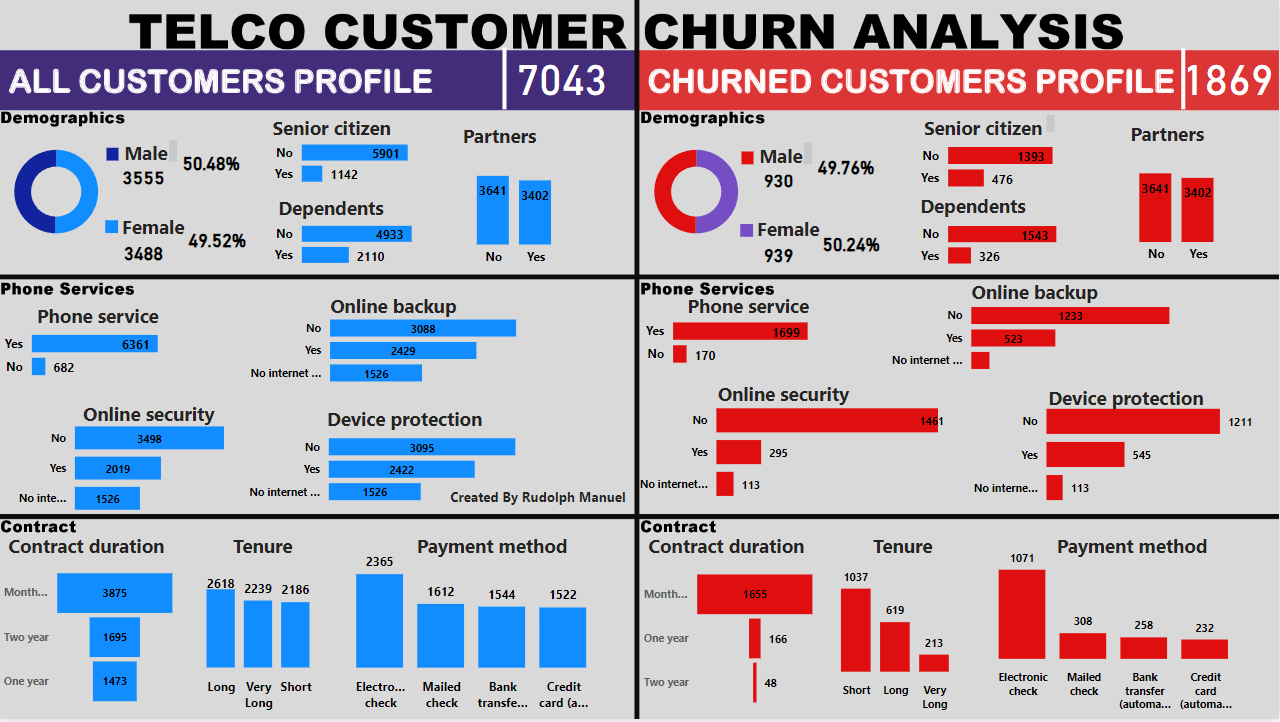

This screenshot's page, from the dashboard's own definition file:
{"tool":"powerbi","page":{"name":"Home Page","canvas":[1280,720],"ordinal":0},"visuals":[{"type":"card","fields":{"Values":["All measures.Total no of cust"]},"box":[505.8,48.8,113.1,55.9],"z":0},{"type":"card","fields":{"Values":["All measures.Total churned cust"]},"box":[1175.8,51.2,104.7,51.2],"z":1000},{"type":"shape","box":[487.9,48.8,35.7,61.9],"z":2000},{"type":"shape","box":[1166.3,48.8,35.7,61.9],"z":3000},{"type":"donutChart","fields":{"Category":["Telco Churn Data.gender"],"Y":["CountNonNull(Telco Churn Data.gender)"]},"box":[0,134.5,114.2,115.4],"z":4000},{"type":"card","fields":{"Values":["All measures.Male cust"]},"box":[113.1,164.2,64.3,25],"z":5000},{"type":"textbox","box":[119,135.7,64.3,33.3],"z":6000},{"type":"card","fields":{"Values":["All measures.Female cust"]},"box":[113.1,234.4,64.3,40.5],"z":7000},{"type":"textbox","box":[114.2,209.5,80.9,35.7],"z":8000},{"type":"shape","box":[107.1,148.8,11.9,13.1],"z":9000},{"type":"shape","box":[105.9,221.4,13.1,13.1],"z":10000},{"type":"card","fields":{"Values":["All measures.%of malecust"]},"box":[177.3,150,69,29.8],"z":11000},{"type":"card","fields":{"Values":["All measures.%of femalecust"]},"box":[183.3,227.3,69,29.8],"z":12000},{"type":"clusteredBarChart","fields":{"Category":["Telco Churn Data.SeniorCitizen"],"Y":["CountNonNull(Telco Churn Data.SeniorCitizen)"]},"box":[270.1,114.2,172.6,94],"z":13000},{"type":"textbox","box":[260.6,110.7,142.8,35.7],"z":14000},{"type":"textbox","box":[270.1,191.6,123.8,35.7],"z":15000},{"type":"clusteredBarChart","fields":{"Category":["Telco Churn Data.Dependents"],"Y":["CountNonNull(Telco Churn Data.Dependents)"]},"box":[270.1,195.2,180.9,94],"z":16000},{"type":"columnChart","fields":{"Category":["Telco Churn Data.Partner"],"Y":["CountNonNull(Telco Churn Data.Partner)"]},"box":[434.4,155.9,161.9,119],"z":17000},{"type":"textbox","box":[450.6,119.1,101.1,42.7],"z":18000},{"type":"donutChart","fields":{"Y":["All measures.Total churned cust"],"Category":["Telco Churn Data.gender"]},"box":[640.3,134.5,114.2,115.4],"z":19000},{"type":"card","fields":{"Values":["All measures.churned males"]},"box":[747.9,167.8,64.3,25],"z":20000},{"type":"textbox","box":[753.8,139.3,64.3,33.3],"z":21000},{"type":"card","fields":{"Values":["All measures.churned female"]},"box":[747.9,238,64.3,40.5],"z":22000},{"type":"textbox","box":[749,213.1,80.9,35.7],"z":23000},{"type":"shape","box":[741.9,152.4,11.9,13.1],"z":24000},{"type":"shape","box":[740.7,225,13.1,13.1],"z":25000},{"type":"card","fields":{"Values":["All measures.%of churned malecust"]},"box":[812.1,153.6,69,29.8],"z":26000},{"type":"card","fields":{"Values":["All measures.%of churned femalecust"]},"box":[818.1,230.9,69,29.8],"z":27000},{"type":"clusteredBarChart","fields":{"Category":["Telco Churn Data.SeniorCitizen"],"Y":["All measures.Total churned cust"]},"box":[916.9,114.6,171.9,98.9],"z":28000},{"type":"textbox","box":[916.9,111.2,143.8,30.3],"z":29000},{"type":"clusteredBarChart","fields":{"Category":["Telco Churn Data.Dependents"],"Y":["All measures.Total churned cust"]},"box":[916.9,195.5,180.9,94.4],"z":30000},{"type":"textbox","box":[916.9,188.8,123.6,36],"z":31000},{"type":"columnChart","fields":{"Category":["Telco Churn Data.Partner"],"Y":["CountNonNull(Telco Churn Data.Partner)"]},"box":[1097.9,154.2,161.9,119],"z":32000},{"type":"textbox","box":[1121.7,117.3,94,42.8],"z":33000},{"type":"barChart","fields":{"Category":["Telco Churn Data.PhoneService"],"Y":["All measures.Total churned cust"]},"box":[640.3,290.7,196.1,100],"z":34000,"group":"g2"},{"type":"textbox","box":[21.1,298.7,155.3,42.1],"z":34000},{"type":"barChart","fields":{"Category":["Telco Churn Data.PhoneService"],"Y":["CountNonNull(Telco Churn Data.PhoneService)"]},"box":[0,302.6,196.1,100],"z":34000,"group":"g1"},{"type":"textbox","box":[68.4,397.4,161.8,42.1],"z":35000},{"type":"textbox","box":[319.7,288.2,148.7,42.1],"z":36000},{"type":"barChart","fields":{"Category":["Telco Churn Data.OnlineSecurity"],"Y":["All measures.Total churned cust"]},"box":[622,384.6,327.3,132.1],"z":36000,"group":"g2"},{"type":"barChart","fields":{"Category":["Telco Churn Data.OnlineSecurity"],"Y":["CountNonNull(Telco Churn Data.OnlineSecurity)"]},"box":[0,409.1,270,120],"z":36000,"group":"g1"},{"type":"textbox","box":[320,396.2,173.8,42.5],"z":37000},{"type":"barChart","fields":{"Category":["Telco Churn Data.OnlineBackup"],"Y":["All measures.Total churned cust"]},"box":[871.8,286.8,346.1,98.7],"z":38000,"group":"g2"},{"type":"group","id":"g1","title":"Group 1","box":[0,298.7,577.6,230.4],"z":38000},{"type":"barChart","fields":{"Y":["CountNonNull(Telco Churn Data.OnlineBackup)"],"Category":["Telco Churn Data.OnlineBackup"]},"box":[231.6,298.7,346.1,98.7],"z":38000,"group":"g1"},{"type":"group","id":"g2","title":"Group 1","box":[622,286.8,645,234.7],"z":39000},{"type":"textbox","box":[1036.2,377.5,173.8,41.2],"z":40000},{"type":"barChart","fields":{"Category":["Telco Churn Data.DeviceProtection"],"Y":["All measures.Total churned cust"]},"box":[957.6,384.6,309.4,136.9],"z":40000,"group":"g2"},{"type":"barChart","fields":{"Category":["Telco Churn Data.DeviceProtection"],"Y":["CountNonNull(Telco Churn Data.DeviceProtection)"]},"box":[230,409.1,346.2,107.5],"z":40000,"group":"g1"},{"type":"textbox","box":[697.4,377.3,173.8,41.7],"z":41000},{"type":"funnel","fields":{"Category":["Telco Churn Data.Contract"],"Y":["CountNonNull(Telco Churn Data.Contract)"]},"box":[0,565.8,183.5,146.8],"z":41000,"group":"g3"},{"type":"funnel","fields":{"Category":["Telco Churn Data.Contract"],"Y":["All measures.Total churned cust"]},"box":[640.5,565.8,183.5,146.8],"z":41000,"group":"g4"},{"type":"textbox","box":[662.9,289.2,173.8,41.7],"z":42000},{"type":"textbox","box":[948.5,274.9,173.8,41.7],"z":43000},{"type":"group","id":"g3","title":"Group 2","box":[0,529.1,619,191.1],"z":44000},{"type":"group","id":"g4","title":"Group 2","box":[640.5,521.4,619.6,198.7],"z":45000},{"type":"textbox","box":[0,529.1,174.7,41.8],"z":45000,"group":"g3"},{"type":"textbox","box":[640.5,529.1,174.7,41.8],"z":45000,"group":"g4"},{"type":"textbox","box":[446.3,484.4,194,30.9],"z":46000},{"type":"columnChart","fields":{"Category":["Telco Churn Data.Tenure cat"],"Y":["All measures.Total churned cust"]},"box":[818.3,539.1,154.4,181],"z":46000,"group":"g4"},{"type":"columnChart","fields":{"Category":["Telco Churn Data.Tenure cat"],"Y":["CountNonNull(Telco Churn Data.Tenure cat)"]},"box":[183.5,565.8,148.1,154.4],"z":46000,"group":"g3"},{"type":"actionButton","box":[1190,8.8,68.8,40],"z":47000},{"type":"textbox","box":[211.4,529.1,105.1,36.7],"z":47000,"group":"g3"},{"type":"textbox","box":[851.9,529.1,105.1,36.7],"z":47000,"group":"g4"},{"type":"textbox","box":[8.8,0,111.2,51.2],"z":47001},{"type":"columnChart","fields":{"Category":["Telco Churn Data.PaymentMethod"],"Y":["All measures.Total churned cust"]},"box":[962.6,521.4,297.5,198.7],"z":48000,"group":"g4"},{"type":"columnChart","fields":{"Category":["Telco Churn Data.PaymentMethod"],"Y":["CountNonNull(Telco Churn Data.PaymentMethod)"]},"box":[320.3,536.7,298.7,183.5],"z":48000,"group":"g3"},{"type":"textbox","box":[405.1,529.1,175.9,36.7],"z":49000,"group":"g3"},{"type":"textbox","box":[1045.6,529.1,175.9,36.7],"z":49000,"group":"g4"}]}

Visuals, with their boxes in screenshot pixels (x1, y1, x2, y2), scaled from the page's 1280x720 canvas onto the 1280x722 screenshot:
card - All measures.Total no of cust: (x1=506, y1=49, x2=619, y2=105)
card - All measures.Total churned cust: (x1=1176, y1=51, x2=1279, y2=103)
shape: (x1=488, y1=49, x2=524, y2=111)
shape: (x1=1166, y1=49, x2=1202, y2=111)
donutChart - Telco Churn Data.gender x CountNonNull(Telco Churn Data.gender): (x1=0, y1=135, x2=114, y2=251)
card - All measures.Male cust: (x1=113, y1=165, x2=177, y2=190)
textbox: (x1=119, y1=136, x2=183, y2=169)
card - All measures.Female cust: (x1=113, y1=235, x2=177, y2=276)
textbox: (x1=114, y1=210, x2=195, y2=246)
shape: (x1=107, y1=149, x2=119, y2=162)
shape: (x1=106, y1=222, x2=119, y2=235)
card - All measures.%of malecust: (x1=177, y1=150, x2=246, y2=180)
card - All measures.%of femalecust: (x1=183, y1=228, x2=252, y2=258)
clusteredBarChart - Telco Churn Data.SeniorCitizen x CountNonNull(Telco Churn Data.SeniorCitizen): (x1=270, y1=115, x2=443, y2=209)
textbox: (x1=261, y1=111, x2=403, y2=147)
textbox: (x1=270, y1=192, x2=394, y2=228)
clusteredBarChart - Telco Churn Data.Dependents x CountNonNull(Telco Churn Data.Dependents): (x1=270, y1=196, x2=451, y2=290)
columnChart - Telco Churn Data.Partner x CountNonNull(Telco Churn Data.Partner): (x1=434, y1=156, x2=596, y2=276)
textbox: (x1=451, y1=119, x2=552, y2=162)
donutChart - All measures.Total churned cust x Telco Churn Data.gender: (x1=640, y1=135, x2=754, y2=251)
card - All measures.churned males: (x1=748, y1=168, x2=812, y2=193)
textbox: (x1=754, y1=140, x2=818, y2=173)
card - All measures.churned female: (x1=748, y1=239, x2=812, y2=279)
textbox: (x1=749, y1=214, x2=830, y2=249)
shape: (x1=742, y1=153, x2=754, y2=166)
shape: (x1=741, y1=226, x2=754, y2=239)
card - All measures.%of churned malecust: (x1=812, y1=154, x2=881, y2=184)
card - All measures.%of churned femalecust: (x1=818, y1=232, x2=887, y2=261)
clusteredBarChart - Telco Churn Data.SeniorCitizen x All measures.Total churned cust: (x1=917, y1=115, x2=1089, y2=214)
textbox: (x1=917, y1=112, x2=1061, y2=142)
clusteredBarChart - Telco Churn Data.Dependents x All measures.Total churned cust: (x1=917, y1=196, x2=1098, y2=291)
textbox: (x1=917, y1=189, x2=1040, y2=225)
columnChart - Telco Churn Data.Partner x CountNonNull(Telco Churn Data.Partner): (x1=1098, y1=155, x2=1260, y2=274)
textbox: (x1=1122, y1=118, x2=1216, y2=161)
barChart - Telco Churn Data.PhoneService x All measures.Total churned cust: (x1=640, y1=292, x2=836, y2=392)
textbox: (x1=21, y1=300, x2=176, y2=342)
barChart - Telco Churn Data.PhoneService x CountNonNull(Telco Churn Data.PhoneService): (x1=0, y1=303, x2=196, y2=404)
textbox: (x1=68, y1=399, x2=230, y2=441)
textbox: (x1=320, y1=289, x2=468, y2=331)
barChart - Telco Churn Data.OnlineSecurity x All measures.Total churned cust: (x1=622, y1=386, x2=949, y2=518)
barChart - Telco Churn Data.OnlineSecurity x CountNonNull(Telco Churn Data.OnlineSecurity): (x1=0, y1=410, x2=270, y2=531)
textbox: (x1=320, y1=397, x2=494, y2=440)
barChart - Telco Churn Data.OnlineBackup x All measures.Total churned cust: (x1=872, y1=288, x2=1218, y2=387)
"Group 1" group: (x1=0, y1=300, x2=578, y2=531)
barChart - CountNonNull(Telco Churn Data.OnlineBackup) x Telco Churn Data.OnlineBackup: (x1=232, y1=300, x2=578, y2=399)
"Group 1" group: (x1=622, y1=288, x2=1267, y2=523)
textbox: (x1=1036, y1=379, x2=1210, y2=420)
barChart - Telco Churn Data.DeviceProtection x All measures.Total churned cust: (x1=958, y1=386, x2=1267, y2=523)
barChart - Telco Churn Data.DeviceProtection x CountNonNull(Telco Churn Data.DeviceProtection): (x1=230, y1=410, x2=576, y2=518)
textbox: (x1=697, y1=378, x2=871, y2=420)
funnel - Telco Churn Data.Contract x CountNonNull(Telco Churn Data.Contract): (x1=0, y1=567, x2=184, y2=715)
funnel - Telco Churn Data.Contract x All measures.Total churned cust: (x1=640, y1=567, x2=824, y2=715)
textbox: (x1=663, y1=290, x2=837, y2=332)
textbox: (x1=948, y1=276, x2=1122, y2=317)
"Group 2" group: (x1=0, y1=531, x2=619, y2=721)
"Group 2" group: (x1=640, y1=523, x2=1260, y2=721)
textbox: (x1=0, y1=531, x2=175, y2=572)
textbox: (x1=640, y1=531, x2=815, y2=572)
textbox: (x1=446, y1=486, x2=640, y2=517)
columnChart - Telco Churn Data.Tenure cat x All measures.Total churned cust: (x1=818, y1=541, x2=973, y2=721)
columnChart - Telco Churn Data.Tenure cat x CountNonNull(Telco Churn Data.Tenure cat): (x1=184, y1=567, x2=332, y2=721)
actionButton: (x1=1190, y1=9, x2=1259, y2=49)
textbox: (x1=211, y1=531, x2=316, y2=567)
textbox: (x1=852, y1=531, x2=957, y2=567)
textbox: (x1=9, y1=0, x2=120, y2=51)
columnChart - Telco Churn Data.PaymentMethod x All measures.Total churned cust: (x1=963, y1=523, x2=1260, y2=721)
columnChart - Telco Churn Data.PaymentMethod x CountNonNull(Telco Churn Data.PaymentMethod): (x1=320, y1=538, x2=619, y2=721)
textbox: (x1=405, y1=531, x2=581, y2=567)
textbox: (x1=1046, y1=531, x2=1222, y2=567)
